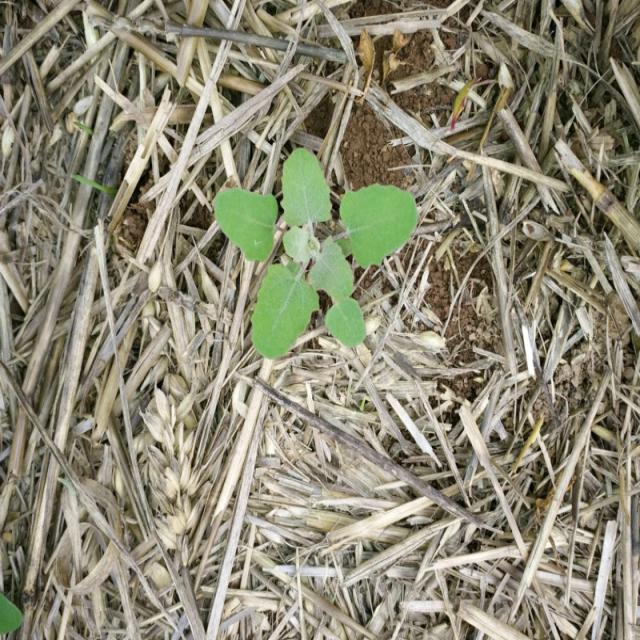ca: (213, 150, 414, 361)
